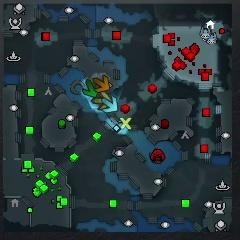Other: (120, 117, 132, 129)
x2: (92, 92, 113, 107)
x3: (101, 98, 118, 116)
x4: (83, 79, 99, 98)
x5: (94, 76, 109, 92)
